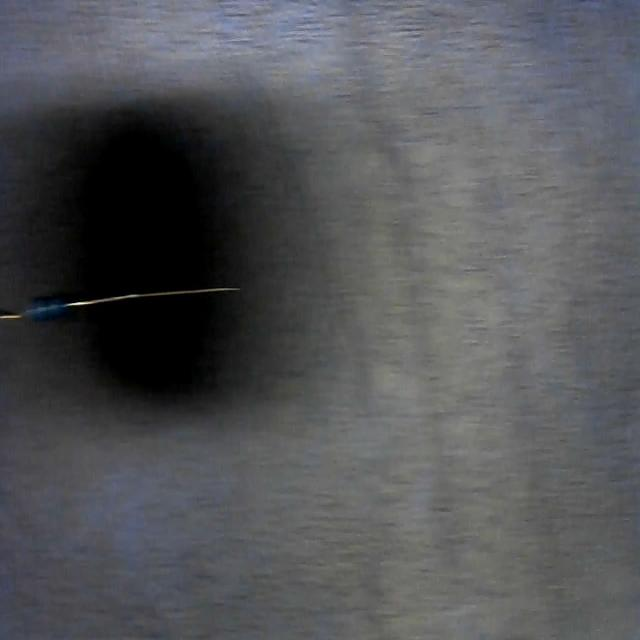resistor: (0, 281, 239, 325)
